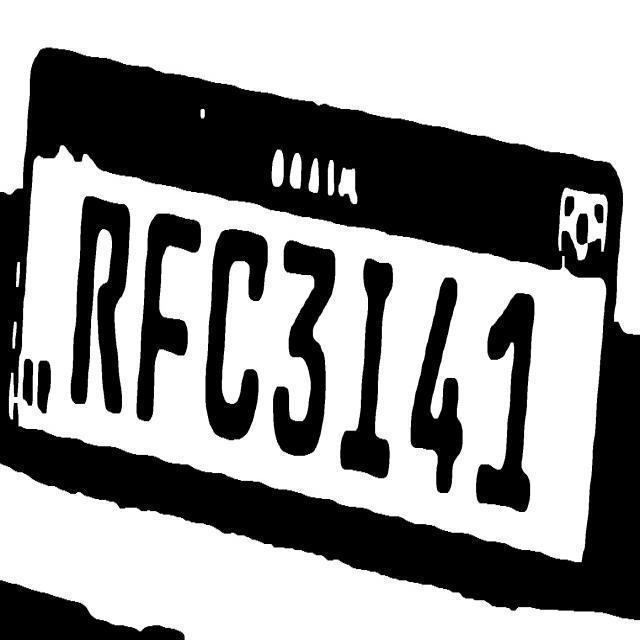1: (474, 276, 536, 516)
3: (269, 233, 338, 462)
4: (409, 262, 464, 496)
c: (202, 224, 268, 443)
f: (134, 208, 200, 428)
i: (338, 247, 396, 480)
r: (68, 185, 130, 422)
